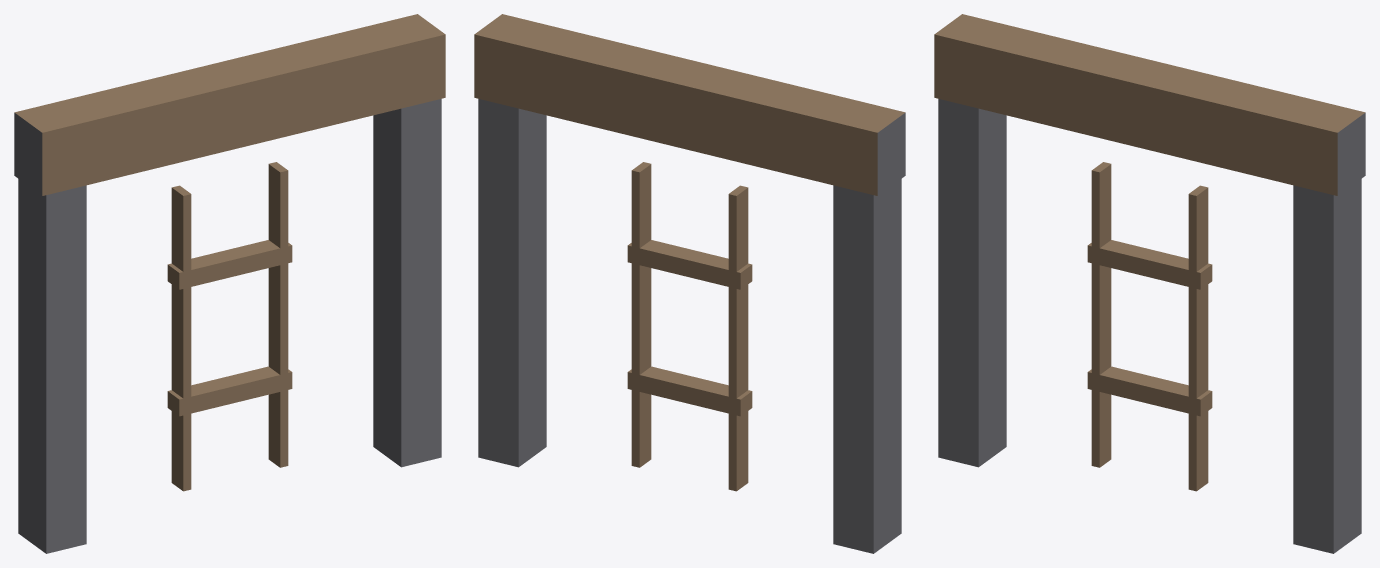
The model's file is door.glb.
3 views of the same model, side by side, from view 1: azimuth 30°, elevation 25°; view 2: azimuth 150°, elevation 25°; view 3: azimuth 330°, elevation 25° (orthographic).
Visible parts, largest first — view 1: door; view 2: door; view 3: door.
Boxes of the visible parts, left/top/right/bottom form: door: left=14, top=14, right=445, bottom=553; door: left=474, top=14, right=905, bottom=553; door: left=934, top=14, right=1365, bottom=553.
Bounding box in the file's own units: 1 × 1 × 0.12.
